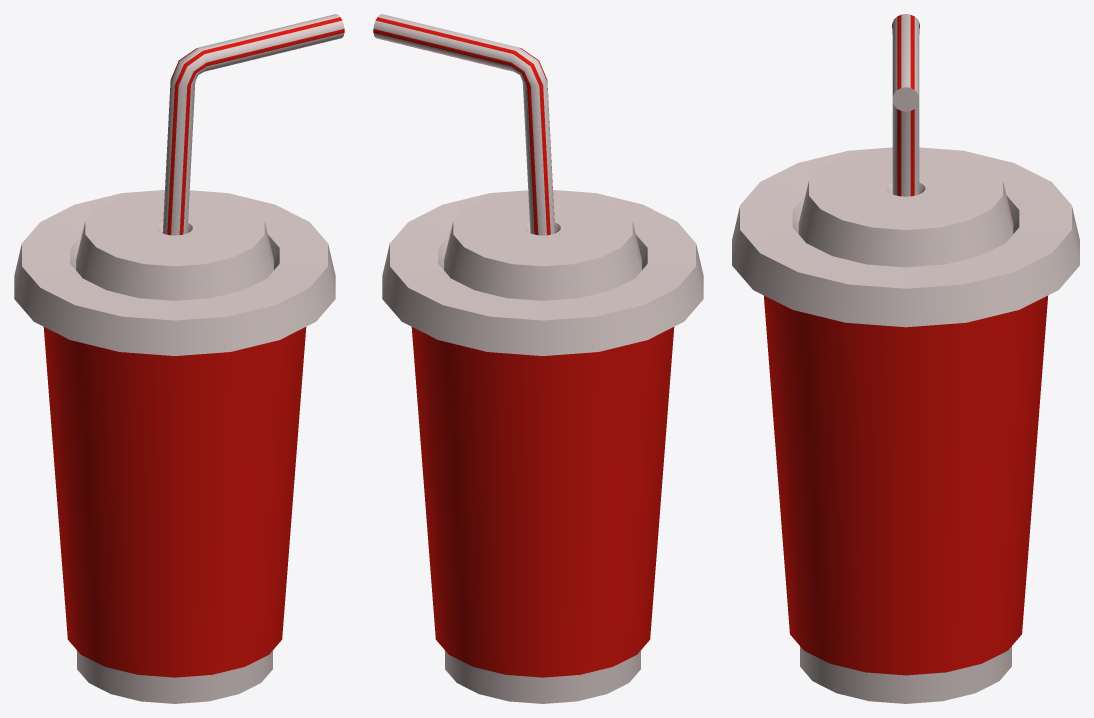
The model's file is dRINK.FBX.
3 views of the same model, side by side, from view 1: azimuth 30°, elevation 25°; view 2: azimuth 150°, elevation 25°; view 3: azimuth 270°, elevation 25° (orthographic). The views are drawn at different scales.
Parts seen in each view (by area): view 1: Cylinder012; view 2: Cylinder012; view 3: Cylinder012.
Part boxes in pixels (<box>): Cylinder012: <box>14,14,344,703</box>; Cylinder012: <box>373,14,703,703</box>; Cylinder012: <box>732,14,1079,703</box>.
Size of the model in its own units: 32.63 by 62.15 by 29.79.
